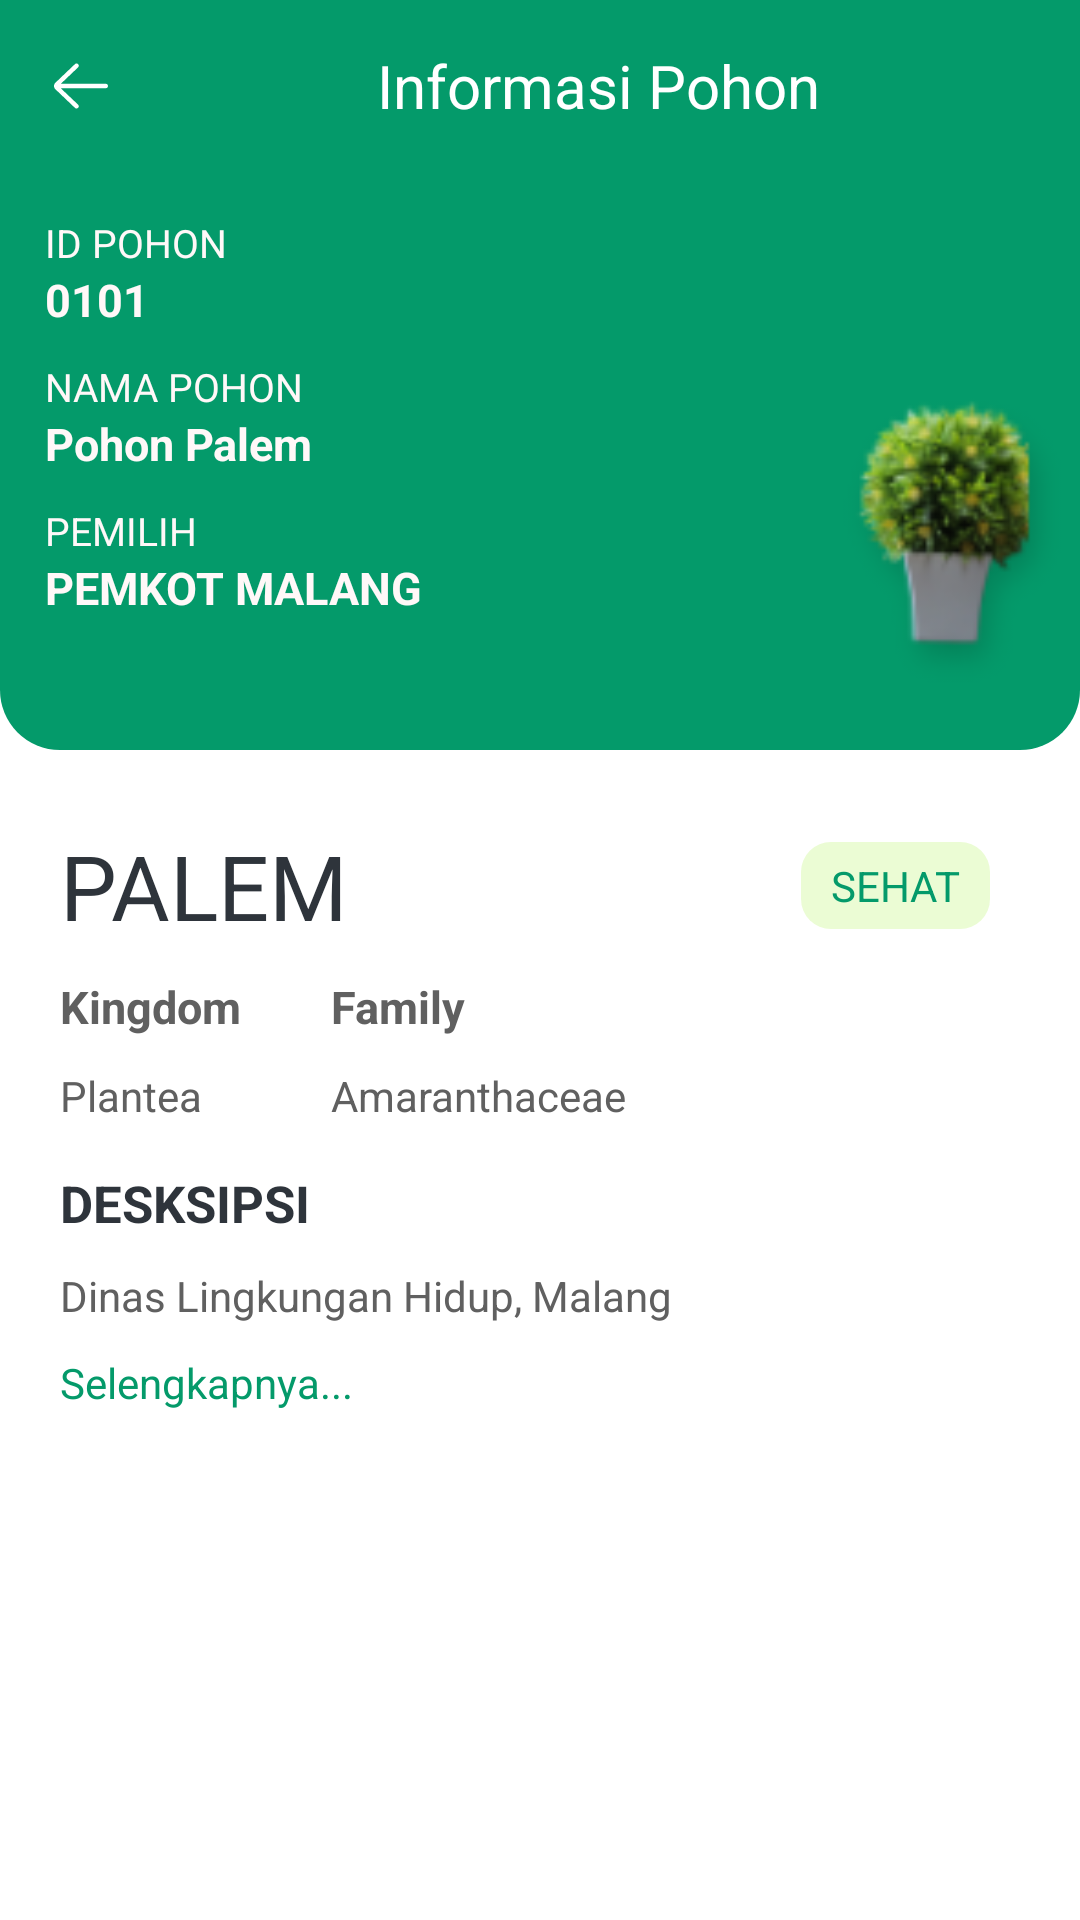

Screen size 1080x1920. Icon name, then its center in pixels as (x=x, y=y):
left arrow: (x=81, y=86)
